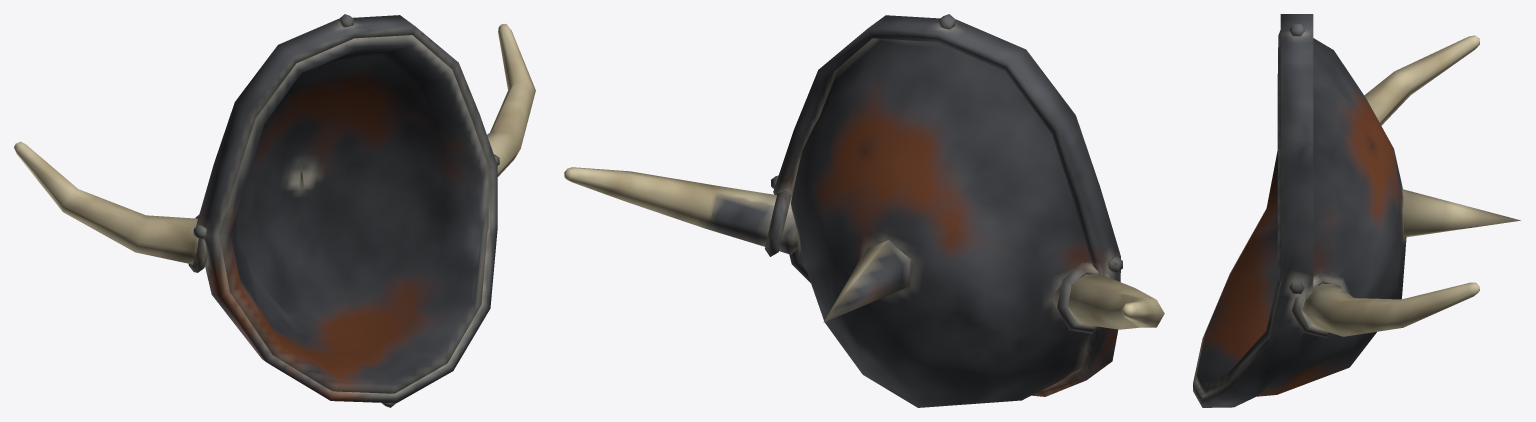
The model's file is Prop_Helmet.fbx.
3 renders of one model, left to right at view 1: azimuth 30°, elevation 25°; view 2: azimuth 150°, elevation 25°; view 3: azimuth 270°, elevation 25°, orthographic. The views are drawn at different scales.
Visible parts, largest first — view 1: Prop_Helmet; view 2: Prop_Helmet; view 3: Prop_Helmet.
Boxes of the visible parts, x1,y1,x2,y2 form: Prop_Helmet: (14,14,535,407); Prop_Helmet: (564,14,1164,407); Prop_Helmet: (1193,14,1520,407).
Bounding box in the file's own units: 0.3687 × 0.2564 × 0.2028.
